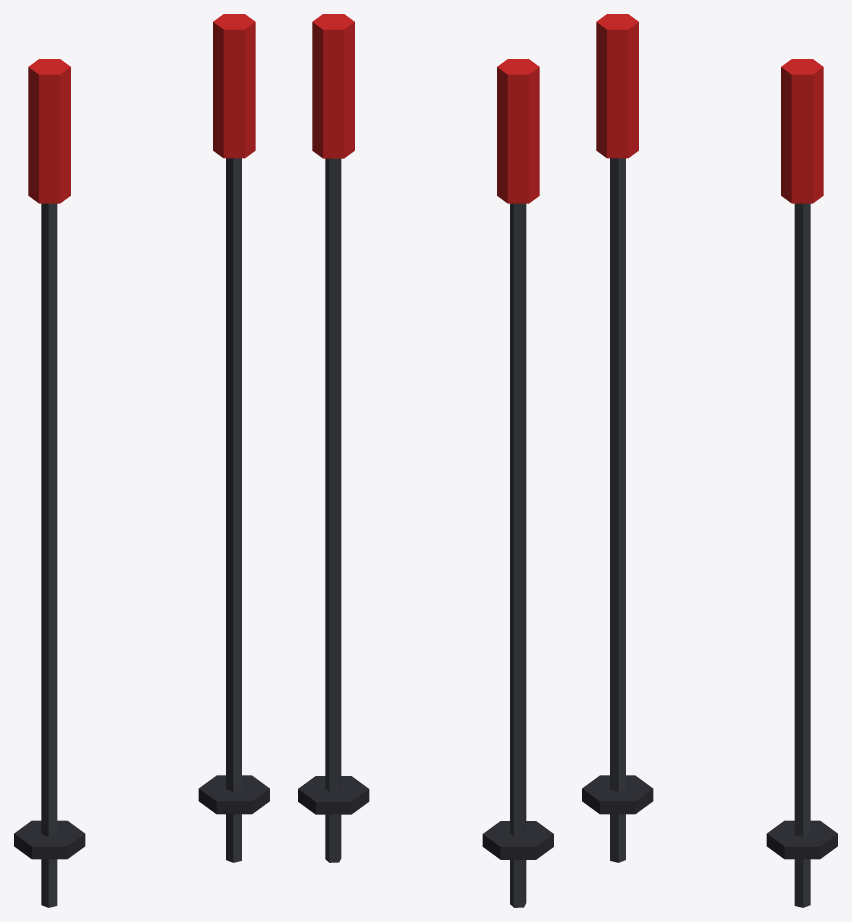
Rendered from ski_poles.glb.
The picture shows the model from 3 angles, left to right: view 1: azimuth 30°, elevation 25°; view 2: azimuth 150°, elevation 25°; view 3: azimuth 330°, elevation 25°; orthographic projection.
Parts seen in each view (by area): view 1: ski_poles; view 2: ski_poles; view 3: ski_poles.
Boxes of the visible parts, x1,y1,x2,y2 form: ski_poles: [14, 14, 269, 907]; ski_poles: [298, 14, 553, 907]; ski_poles: [582, 14, 837, 907].
Bounding box in the file's own units: 0.3866 × 1.3 × 0.1.
